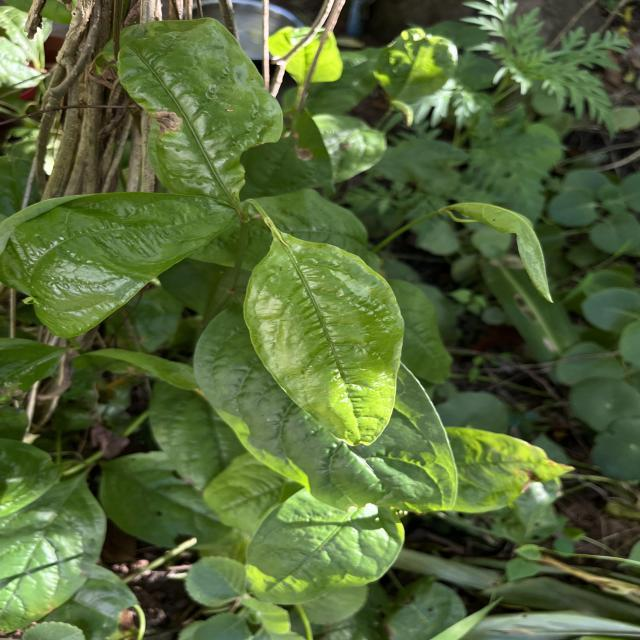Plumbago indica: (237, 230, 405, 450), (0, 190, 236, 339), (105, 12, 288, 204), (236, 478, 408, 608), (0, 474, 113, 634)
